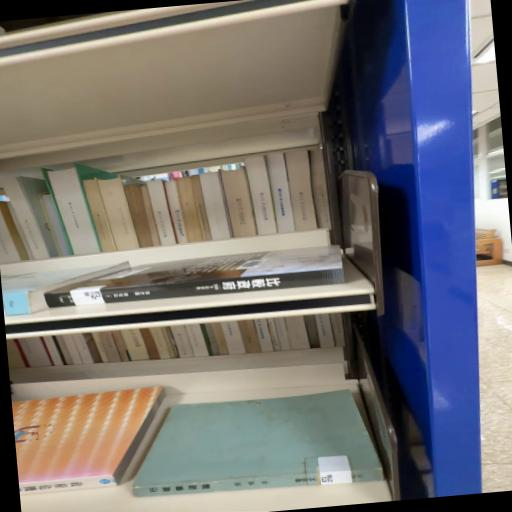flat: (133, 390, 383, 497), (45, 246, 344, 308)
